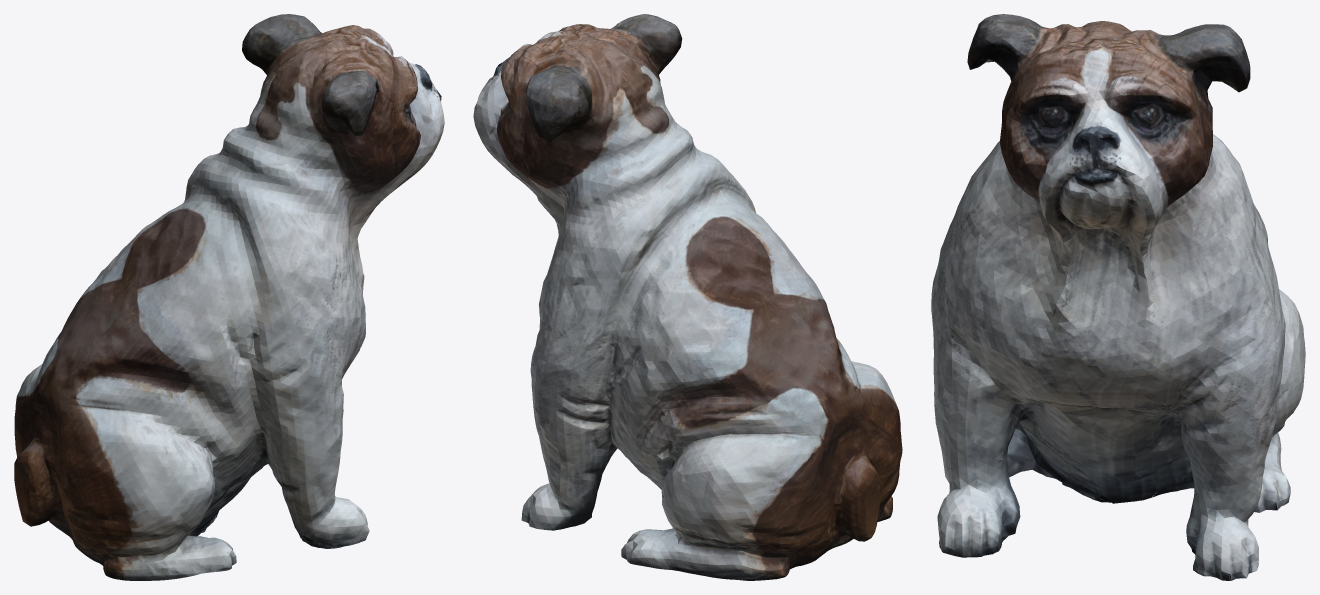
The model's file is English Bulldog.glb.
3 renders of one model, left to right at view 1: azimuth 30°, elevation 25°; view 2: azimuth 150°, elevation 25°; view 3: azimuth 270°, elevation 25°, orthographic. The views are drawn at different scales.
Bounding box in the file's own units: 0.8017 × 0.8373 × 0.523.
Materials: 1 (1 with a texture image).
